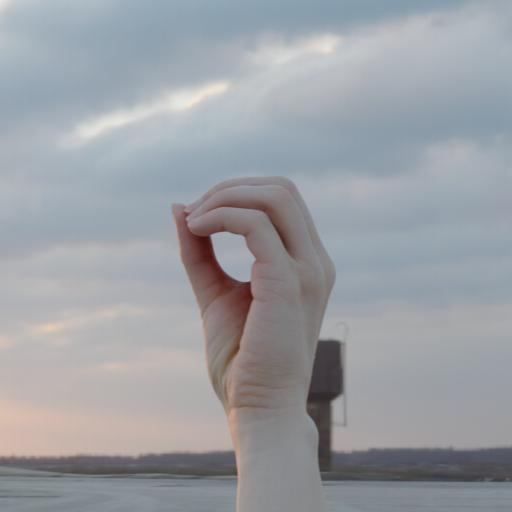O: (165, 172, 340, 414)
